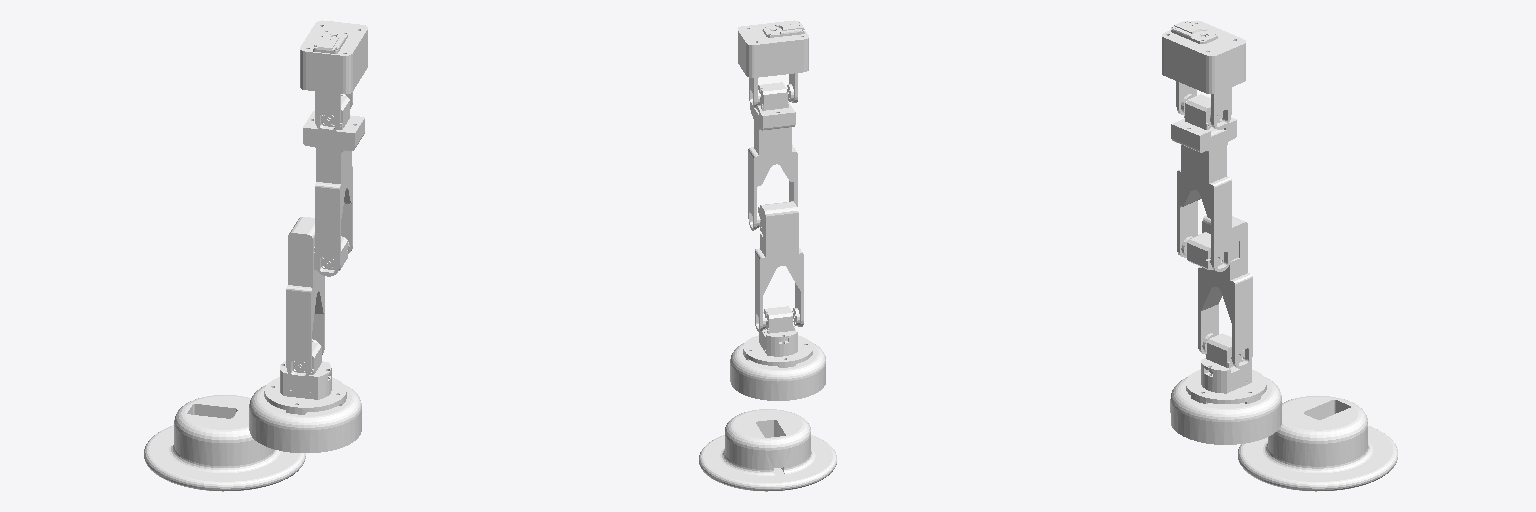
robot.urdf — vector_the_arm_description:
<?xml version="1.0" encoding="utf-8"?>
<!-- This URDF was automatically created by SolidWorks to URDF Exporter! Originally created by Stephen Brawner (brawner@gmail.com) 
     Commit Version: 1.6.0-1-g15f4949  Build Version: 1.6.7594.29634
     For more information, please see http://wiki.ros.org/sw_urdf_exporter -->
<robot
  name="vector_the_arm_description">
  <link
    name="base_link">
    <inertial>
      <origin
        xyz="0.04017 0.036228 0.089961"
        rpy="0 0 0" />
      <mass
        value="0.47301" />
      <inertia
        ixx="0.00060925"
        ixy="-6.5656E-06"
        ixz="-2.5475E-09"
        iyy="0.00099286"
        iyz="2.1203E-09"
        izz="0.00059369" />
    </inertial>
    <visual>
      <origin
        xyz="0 0 0"
        rpy="0 0 0" />
      <geometry>
        <mesh
          filename="package://vector_the_arm_description/meshes/base_link.STL" />
      </geometry>
      <material
        name="">
        <color
          rgba="1 1 1 1" />
      </material>
    </visual>
    <collision>
      <origin
        xyz="0 0 0"
        rpy="0 0 0" />
      <geometry>
        <mesh
          filename="package://vector_the_arm_description/meshes/base_link.STL" />
      </geometry>
    </collision>
  </link>
  <link
    name="Link1">
    <inertial>
      <origin
        xyz="0 0 0.021148"
        rpy="0 0 0" />
      <mass
        value="0.078819" />
      <inertia
        ixx="0.00010458"
        ixy="0"
        ixz="-5.3187E-21"
        iyy="0.00010458"
        iyz="-1.4648E-20"
        izz="0.00019044" />
    </inertial>
    <visual>
      <origin
        xyz="0 0 0"
        rpy="0 0 0" />
      <geometry>
        <mesh
          filename="package://vector_the_arm_description/meshes/Link1.STL" />
      </geometry>
      <material
        name="">
        <color
          rgba="1 1 1 1" />
      </material>
    </visual>
    <collision>
      <origin
        xyz="0 0 0"
        rpy="0 0 0" />
      <geometry>
        <mesh
          filename="package://vector_the_arm_description/meshes/Link1.STL" />
      </geometry>
    </collision>
  </link>
  <joint
    name="Joint1"
    type="revolute">
    <origin
      xyz="0.039158 -0.09063 0.038393"
      rpy="0 0 0.78837" />
    <parent
      link="base_link" />
    <child
      link="Link1" />
    <axis
      xyz="0 0 0" />
    <limit
      lower="0"
      upper="0"
      effort="0"
      velocity="0" />
  </joint>
  <link
    name="Link2">
    <inertial>
      <origin
        xyz="0.049091 0.01203 -0.022092"
        rpy="0 0 0" />
      <mass
        value="0.089999" />
      <inertia
        ixx="2.8107E-05"
        ixy="-1.8894E-06"
        ixz="3.2642E-07"
        iyy="0.0001335"
        iyz="-9.2084E-08"
        izz="0.00011537" />
    </inertial>
    <visual>
      <origin
        xyz="0 0 0"
        rpy="0 0 0" />
      <geometry>
        <mesh
          filename="package://vector_the_arm_description/meshes/Link2.STL" />
      </geometry>
      <material
        name="">
        <color
          rgba="1 1 1 1" />
      </material>
    </visual>
    <collision>
      <origin
        xyz="0 0 0"
        rpy="0 0 0" />
      <geometry>
        <mesh
          filename="package://vector_the_arm_description/meshes/Link2.STL" />
      </geometry>
    </collision>
  </link>
  <joint
    name="Joint2"
    type="revolute">
    <origin
      xyz="-0.023218 0.012518 0.21186"
      rpy="3.1416 1.5708 0" />
    <parent
      link="Link1" />
    <child
      link="Link2" />
    <axis
      xyz="0 0 0" />
    <limit
      lower="0"
      upper="0"
      effort="0"
      velocity="0" />
  </joint>
  <link
    name="Link3">
    <inertial>
      <origin
        xyz="0.042349 0.012701 -0.022133"
        rpy="0 0 0" />
      <mass
        value="0.10792" />
      <inertia
        ixx="3.8564E-05"
        ixy="2.0743E-08"
        ixz="4.1708E-07"
        iyy="0.00015487"
        iyz="6.9966E-10"
        izz="0.00014301" />
    </inertial>
    <visual>
      <origin
        xyz="0 0 0"
        rpy="0 0 0" />
      <geometry>
        <mesh
          filename="package://vector_the_arm_description/meshes/Link3.STL" />
      </geometry>
      <material
        name="">
        <color
          rgba="1 1 1 1" />
      </material>
    </visual>
    <collision>
      <origin
        xyz="0 0 0"
        rpy="0 0 0" />
      <geometry>
        <mesh
          filename="package://vector_the_arm_description/meshes/Link3.STL" />
      </geometry>
    </collision>
  </link>
  <joint
    name="Joint3"
    type="revolute">
    <origin
      xyz="-0.11579 0.029138 0.00049896"
      rpy="0 0 0" />
    <parent
      link="Link2" />
    <child
      link="Link3" />
    <axis
      xyz="0 0 0" />
    <limit
      lower="0"
      upper="0"
      effort="0"
      velocity="0" />
  </joint>
  <link
    name="Link4">
    <inertial>
      <origin
        xyz="0.079969 0.012699 -0.019217"
        rpy="0 0 0" />
      <mass
        value="0.14858" />
      <inertia
        ixx="0.00010827"
        ixy="6.8754E-09"
        ixz="4.5551E-06"
        iyy="0.0001079"
        iyz="3.3593E-10"
        izz="7.5944E-05" />
    </inertial>
    <visual>
      <origin
        xyz="0 0 0"
        rpy="0 0 0" />
      <geometry>
        <mesh
          filename="package://vector_the_arm_description/meshes/Link4.STL" />
      </geometry>
      <material
        name="">
        <color
          rgba="1 1 1 1" />
      </material>
    </visual>
    <collision>
      <origin
        xyz="0 0 0"
        rpy="0 0 0" />
      <geometry>
        <mesh
          filename="package://vector_the_arm_description/meshes/Link4.STL" />
      </geometry>
    </collision>
  </link>
  <joint
    name="Joint4"
    type="revolute">
    <origin
      xyz="-0.15595 0.025556 -0.043973"
      rpy="3.1416 0 0" />
    <parent
      link="Link3" />
    <child
      link="Link4" />
    <axis
      xyz="0 0 0" />
    <limit
      lower="0"
      upper="0"
      effort="0"
      velocity="0" />
  </joint>
</robot>

--- Render facts (derived) ---
Views: 3 orthographic renders of the robot side by side, from view 1: azimuth 30°, elevation 25°; view 2: azimuth 150°, elevation 25°; view 3: azimuth 270°, elevation 25°.
Robot: vector_the_arm_description — 5 links, 4 joints (4 revolute); root link base_link; default pose: all joints at 0.
Visible links, largest first — view 1: base_link, Link1, Link3, Link4, Link2; view 2: base_link, Link1, Link3, Link4, Link2; view 3: base_link, Link1, Link3, Link4, Link2.
Boxes of the visible links, left/top/right/bottom form: base_link: left=144, top=395, right=305, bottom=491; Link1: left=249, top=342, right=361, bottom=452; Link3: left=303, top=96, right=364, bottom=276; Link4: left=300, top=20, right=367, bottom=132; Link2: left=286, top=217, right=347, bottom=379; base_link: left=699, top=409, right=836, bottom=491; Link1: left=730, top=306, right=825, bottom=400; Link3: left=748, top=82, right=797, bottom=230; Link4: left=738, top=20, right=808, bottom=107; Link2: left=755, top=201, right=803, bottom=331; base_link: left=1238, top=396, right=1397, bottom=491; Link1: left=1170, top=333, right=1281, bottom=444; Link3: left=1171, top=94, right=1236, bottom=271; Link4: left=1162, top=21, right=1245, bottom=129; Link2: left=1187, top=215, right=1252, bottom=368.
Bounding box of the posed robot: 0.1805 × 0.2357 × 0.4944 m (x, y, z).
Meshes: 5 distinct files referenced, 5 mesh visuals loaded (5 binary STL).
